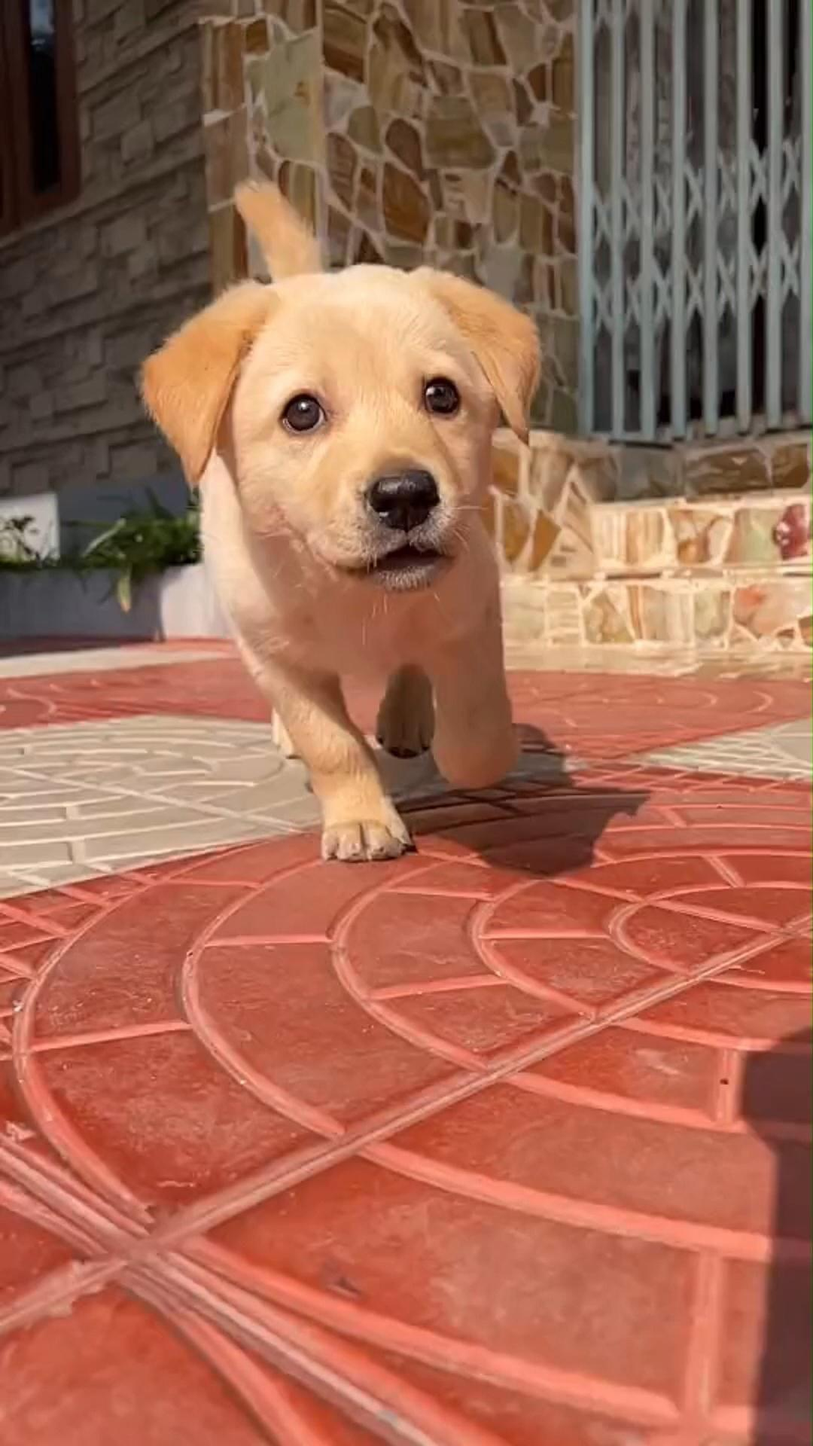puppy-dog: (131, 172, 547, 865)
